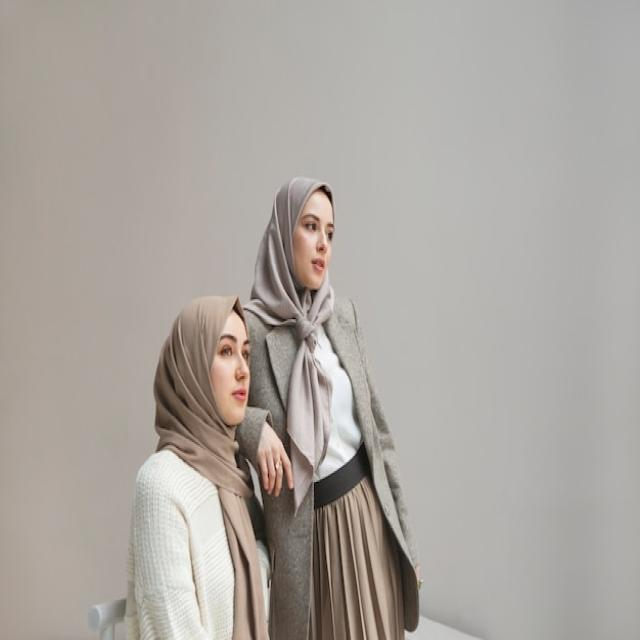Person: (234, 175, 423, 640), (123, 291, 270, 640)
